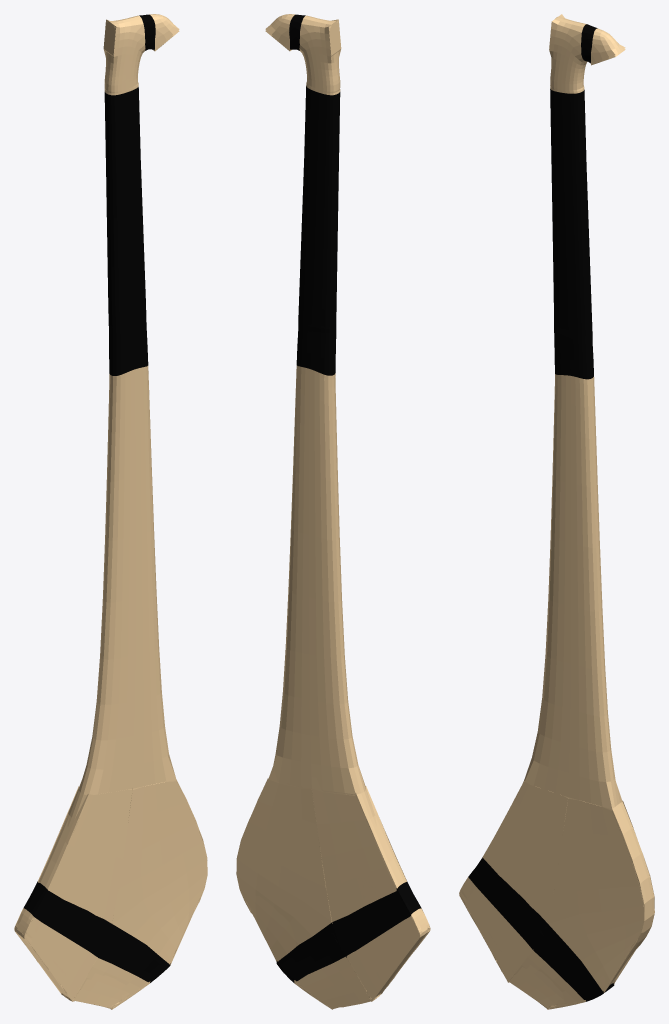
File: Hurl.fbx
The picture shows the model from 3 angles, left to right: view 1: azimuth 30°, elevation 25°; view 2: azimuth 150°, elevation 25°; view 3: azimuth 330°, elevation 25°; orthographic projection.
Parts seen in each view (by area): view 1: Cube; view 2: Cube; view 3: Cube.
Part boxes in pixels (left/top/right/bottom): Cube: left=14, top=14, right=207, bottom=1009; Cube: left=236, top=14, right=430, bottom=1009; Cube: left=459, top=14, right=654, bottom=1009.
Bounding box in the file's own units: 103 × 526 × 11.86.
